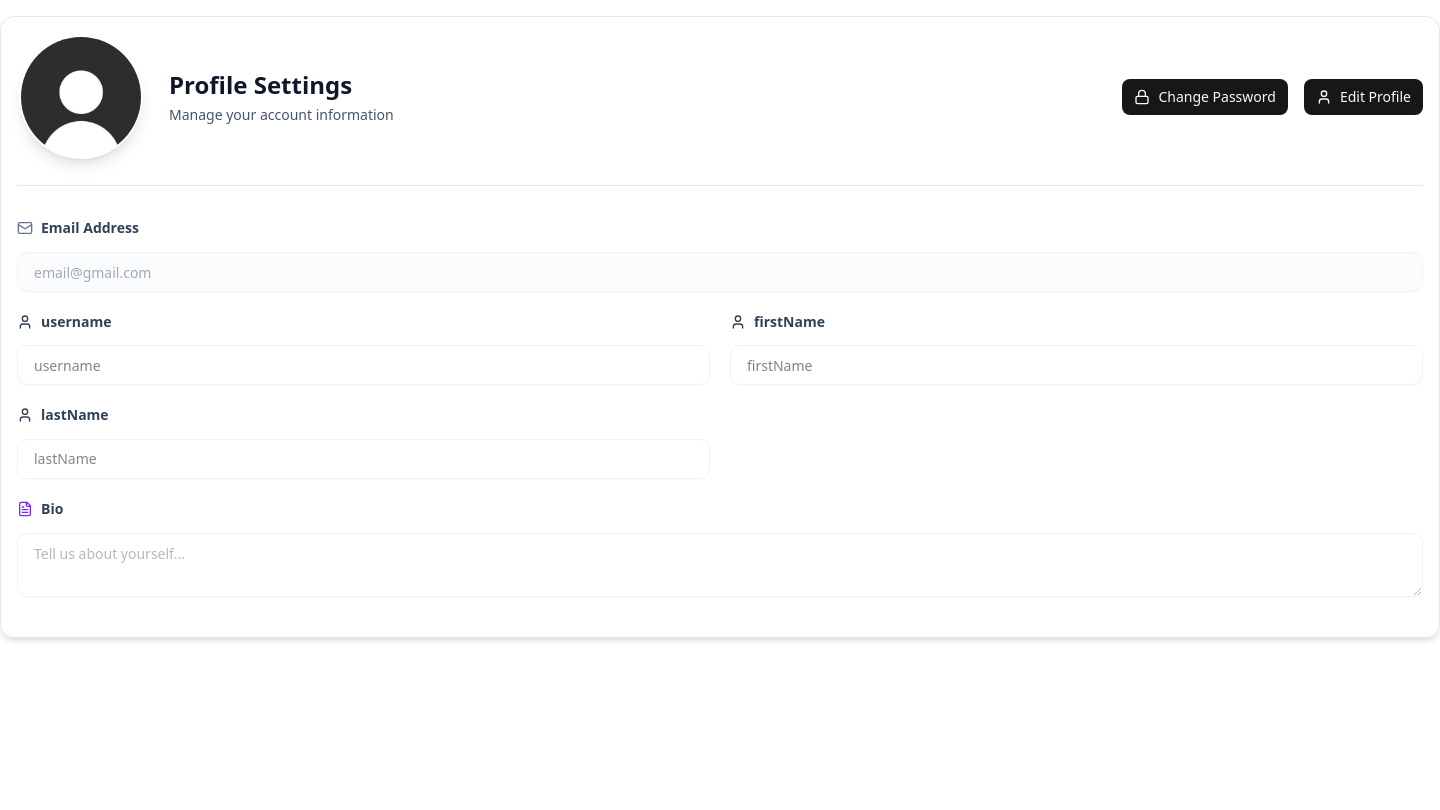
Test case:  › show validation errors for invalid inputs
The image size is (1440, 810).
Click the button "Change Password".
click(1205, 97)  # box x1=1122 y1=79 x2=1288 y2=115
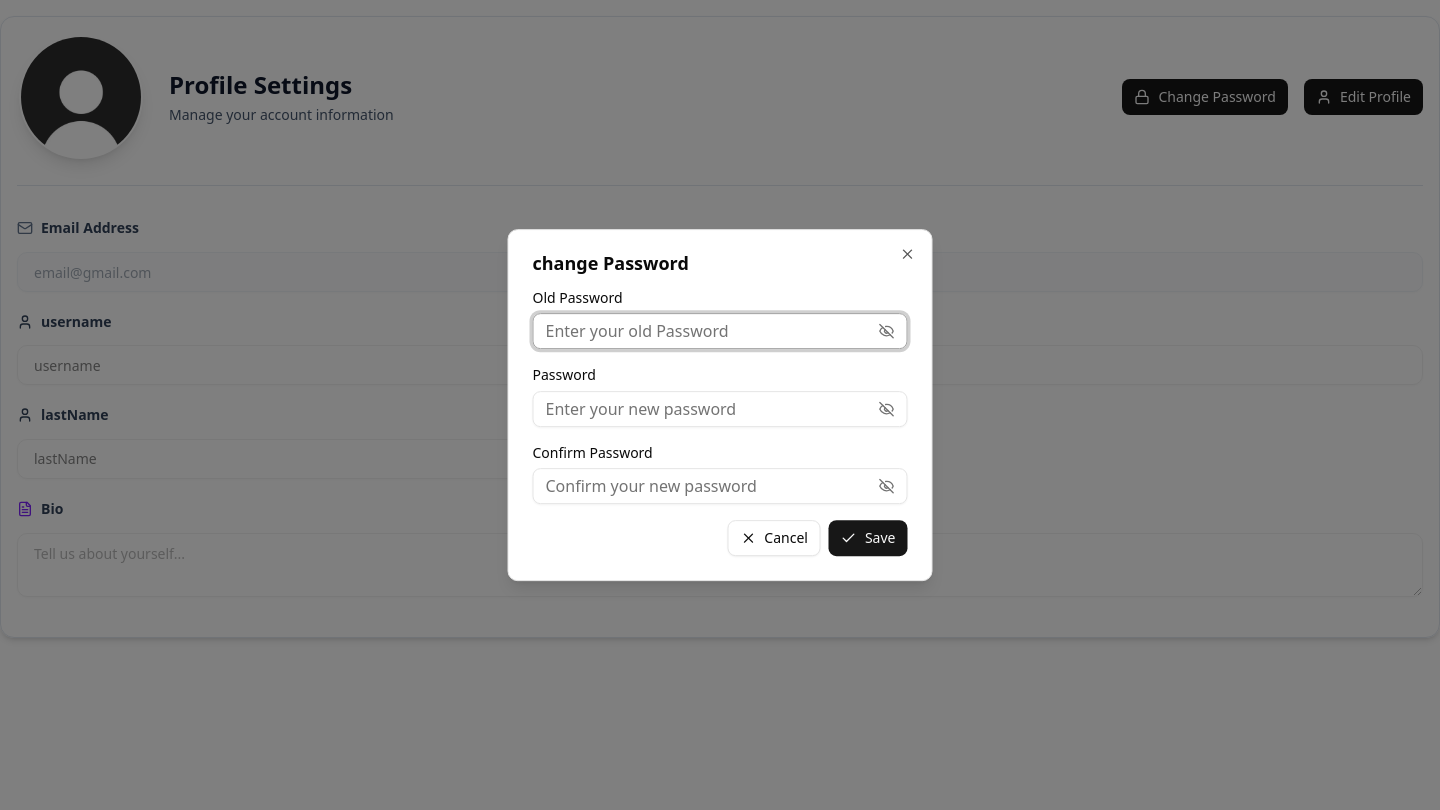
Type "p" into the password field labelled "Old Password".
click(706, 331); type("p")  # box x1=534 y1=311 x2=878 y2=351
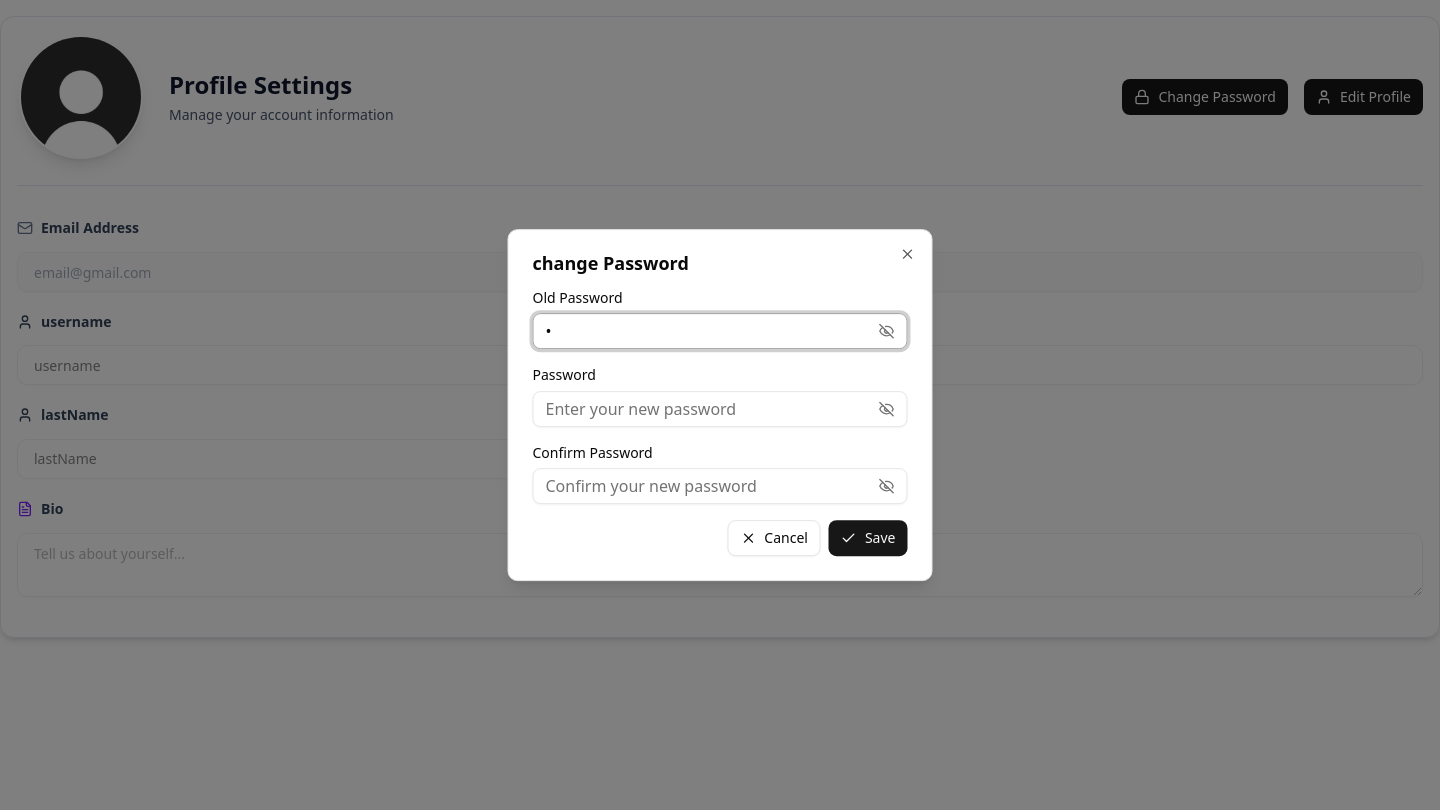
Type "pa" into the password field labelled "Password".
click(706, 409); type("pa")  # box x1=534 y1=389 x2=878 y2=429
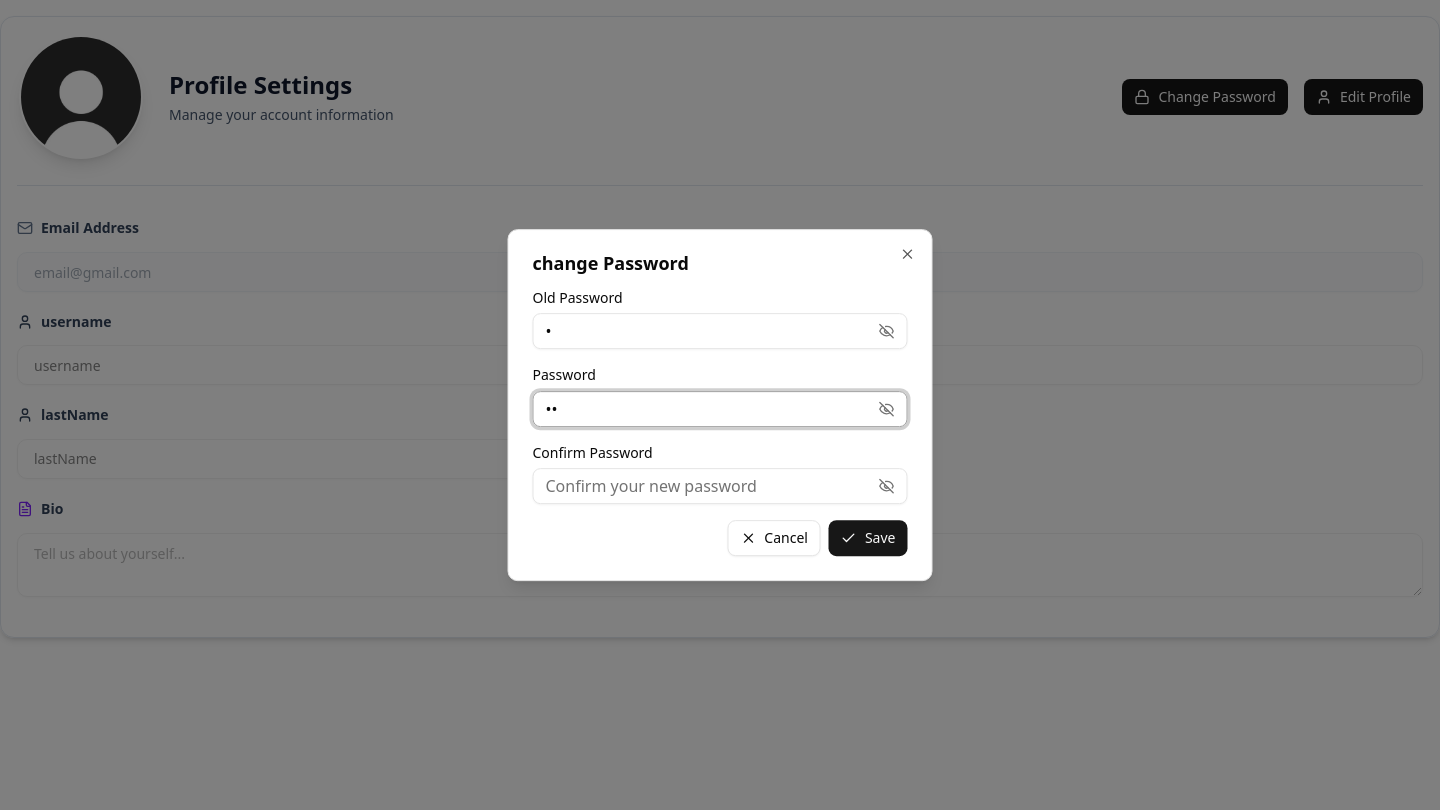
Type "pa" into the password field labelled "Confirm Password".
click(706, 486); type("pa")  # box x1=534 y1=466 x2=878 y2=506
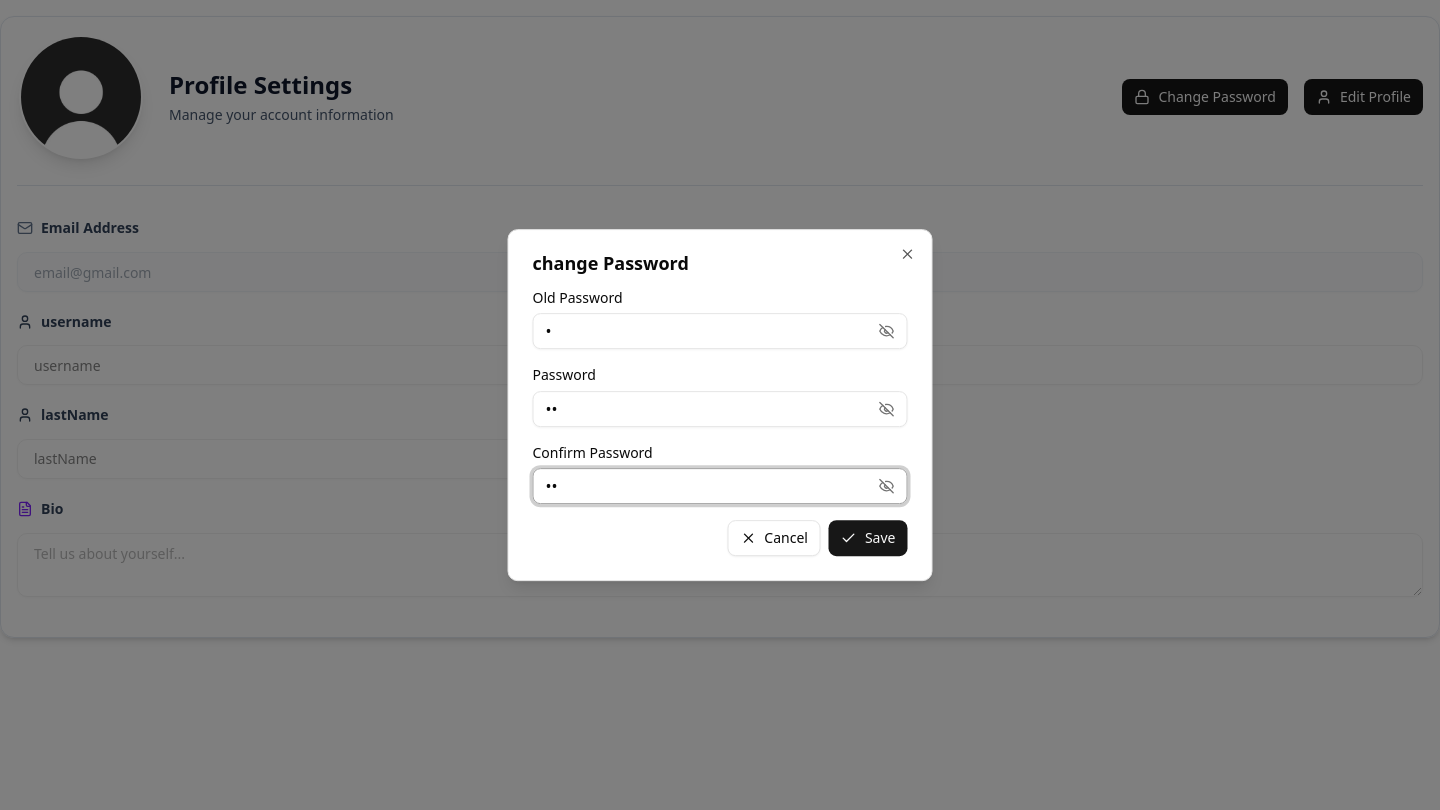
Click the button "Save".
click(868, 538)  # box x1=829 y1=520 x2=908 y2=556
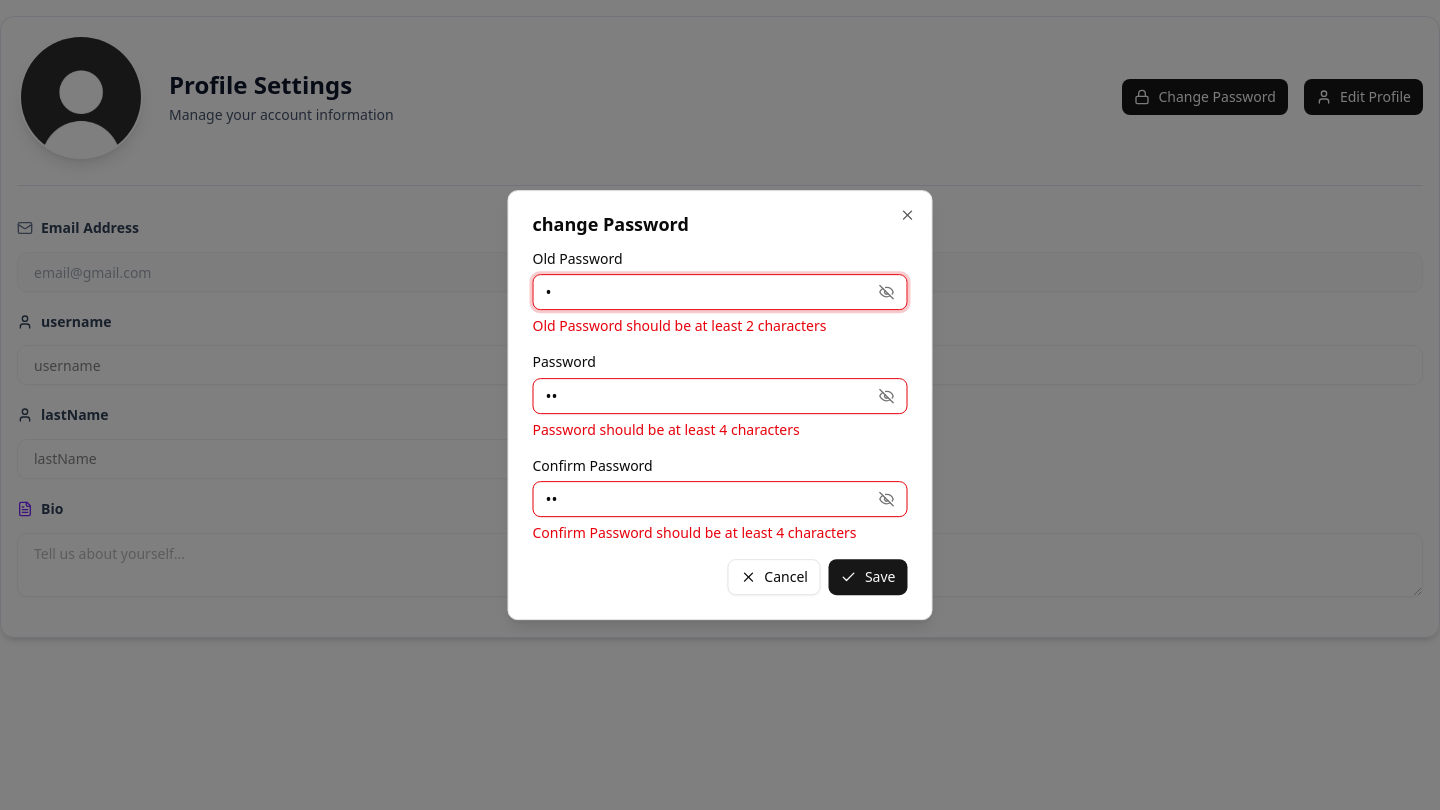
Expected: the text "Old Password should be at least 2 characters" is shown, x1=532 y1=316 x2=826 y2=335
Expected: the text "Password should be at least 4 characters" is shown, x1=532 y1=420 x2=800 y2=439
Expected: the text "Confirm Password should be at least 4 characters" is shown, x1=532 y1=523 x2=908 y2=543
